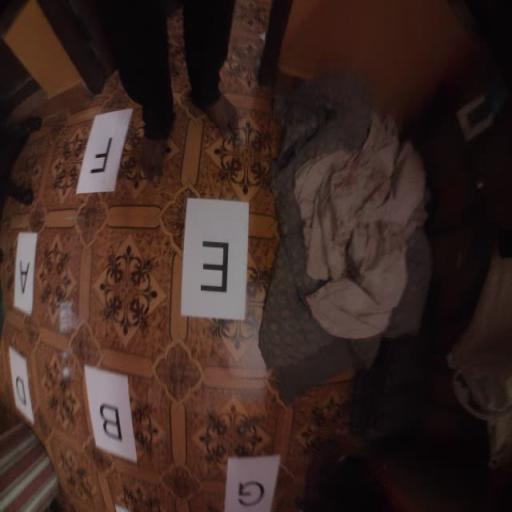A: (18, 260, 30, 294)
B: (98, 401, 124, 444)
D: (15, 374, 29, 408)
E: (199, 240, 230, 294)
F: (90, 136, 112, 175)
G: (237, 480, 265, 508)
